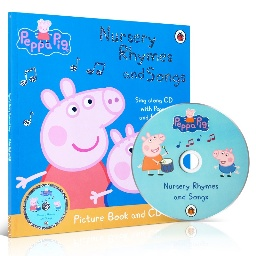Peppa: (16, 77, 126, 210)
